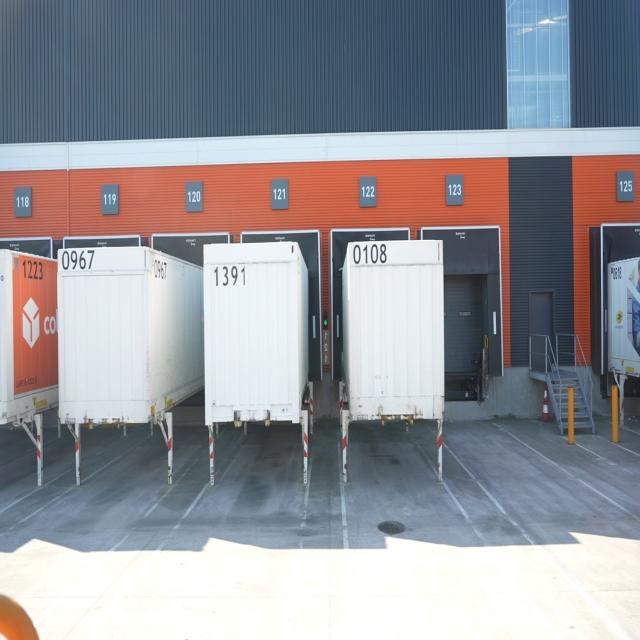Code: (210, 256, 248, 292), (59, 245, 97, 274), (353, 240, 388, 270), (20, 255, 44, 288), (150, 254, 170, 283)
